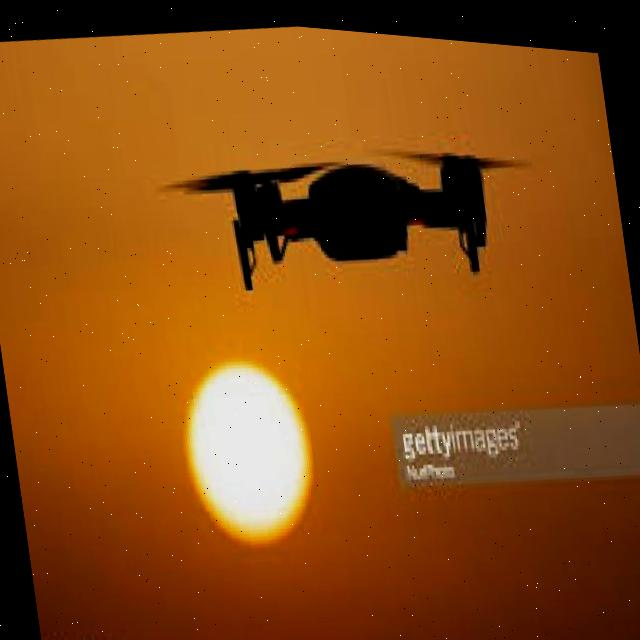drone: (147, 78, 562, 344)
